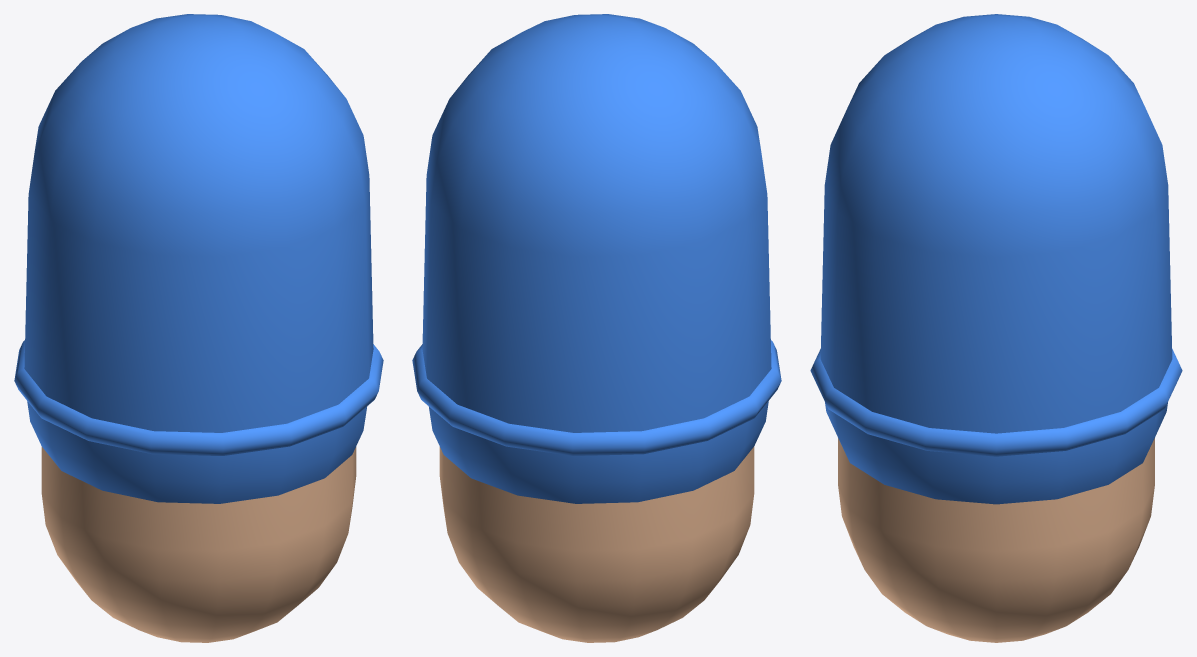
File: char_upper_arm.glb
3 renders of one model, left to right at view 1: azimuth 30°, elevation 25°; view 2: azimuth 150°, elevation 25°; view 3: azimuth 270°, elevation 25°, orthographic.
Visible parts, largest first — view 1: char_upper_arm; view 2: char_upper_arm; view 3: char_upper_arm.
Part boxes in pixels (x1,y1,x2,y2): char_upper_arm: (14, 14, 383, 642); char_upper_arm: (412, 14, 781, 642); char_upper_arm: (810, 14, 1182, 642).
Size of the model in its own units: 0.169 by 0.3 by 0.169.
